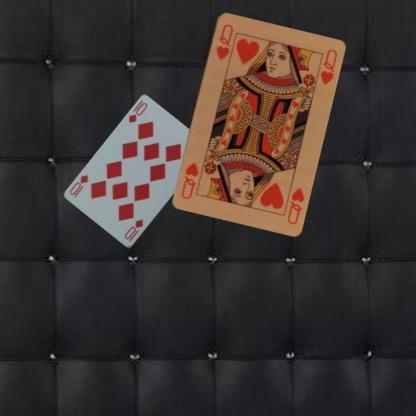10d: (122, 217, 144, 243), (126, 100, 148, 125)
Qh: (284, 185, 306, 225), (213, 21, 234, 61)
